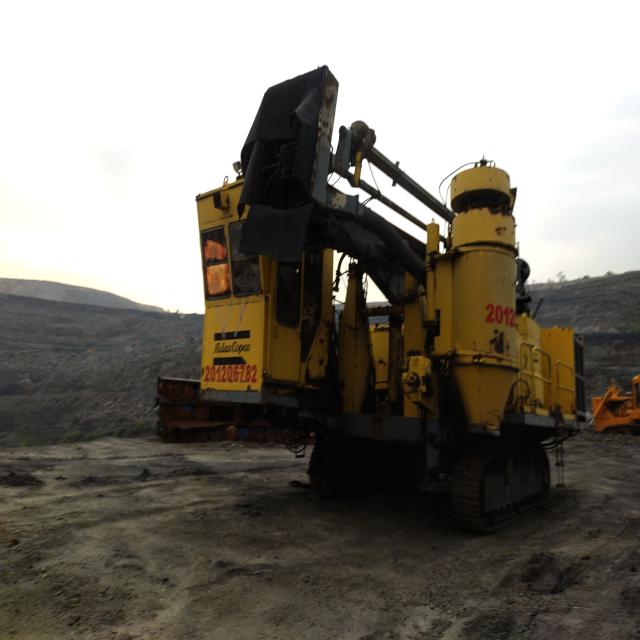buldozerpayloadergrader: (594, 373, 640, 432)
